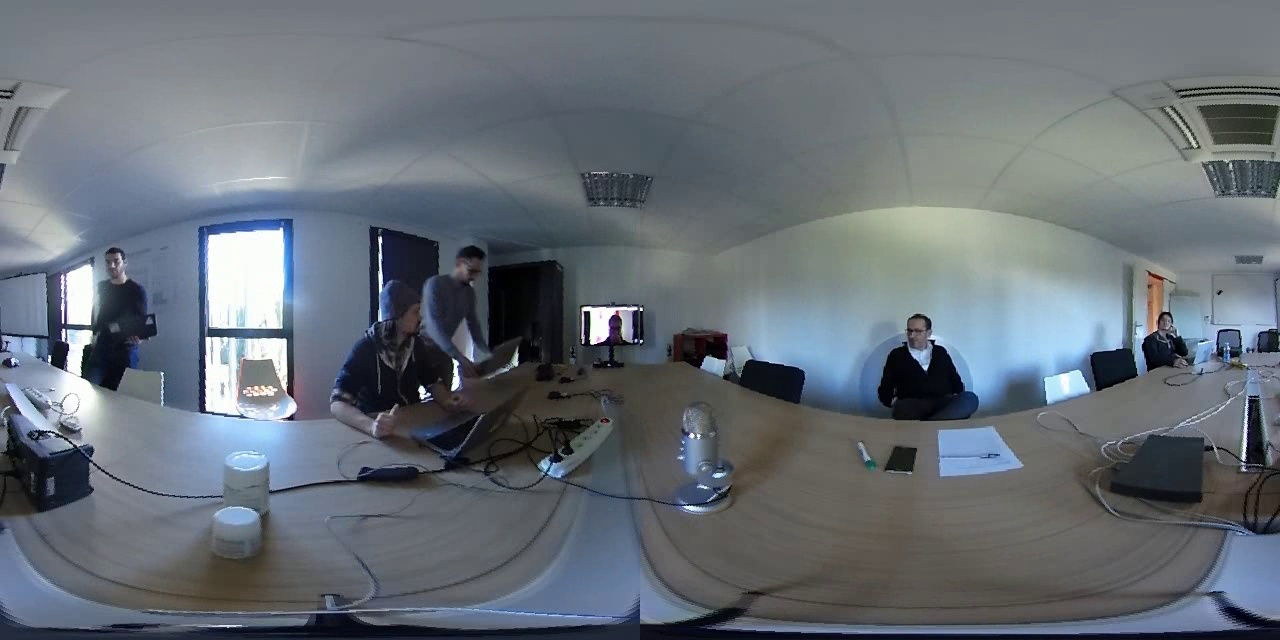person: (337, 274, 426, 440), (874, 300, 979, 425), (80, 238, 153, 373), (429, 243, 495, 388), (1140, 301, 1197, 373), (585, 303, 640, 349)
